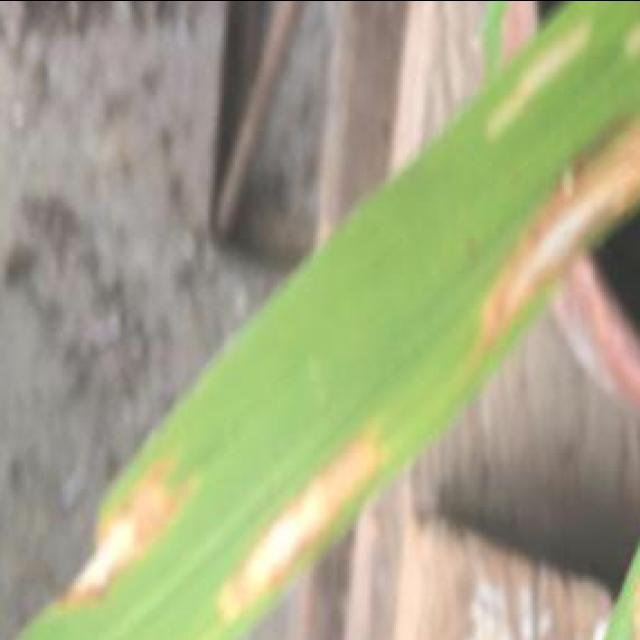Leaf_Blast: (56, 372, 248, 606), (210, 421, 417, 613), (479, 134, 640, 328), (470, 5, 613, 136)
